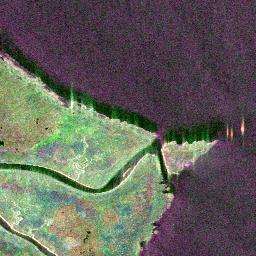Ship: (228, 124, 236, 147), (238, 117, 247, 136), (224, 122, 229, 142)
